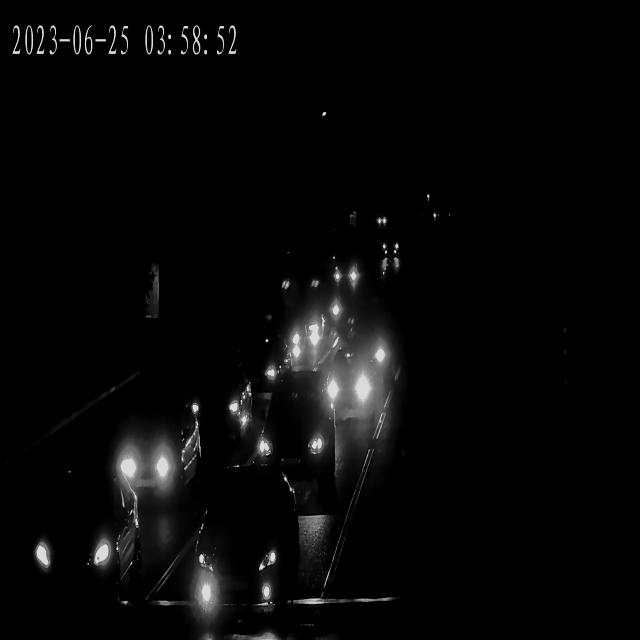Car: (2, 471, 144, 616), (192, 470, 303, 626), (101, 397, 198, 491), (171, 361, 258, 445), (239, 400, 330, 476), (260, 304, 330, 366), (318, 358, 385, 415), (340, 328, 396, 386), (285, 287, 352, 335), (280, 270, 326, 306), (325, 253, 366, 289), (374, 236, 396, 259), (376, 238, 399, 259), (369, 214, 388, 230)
